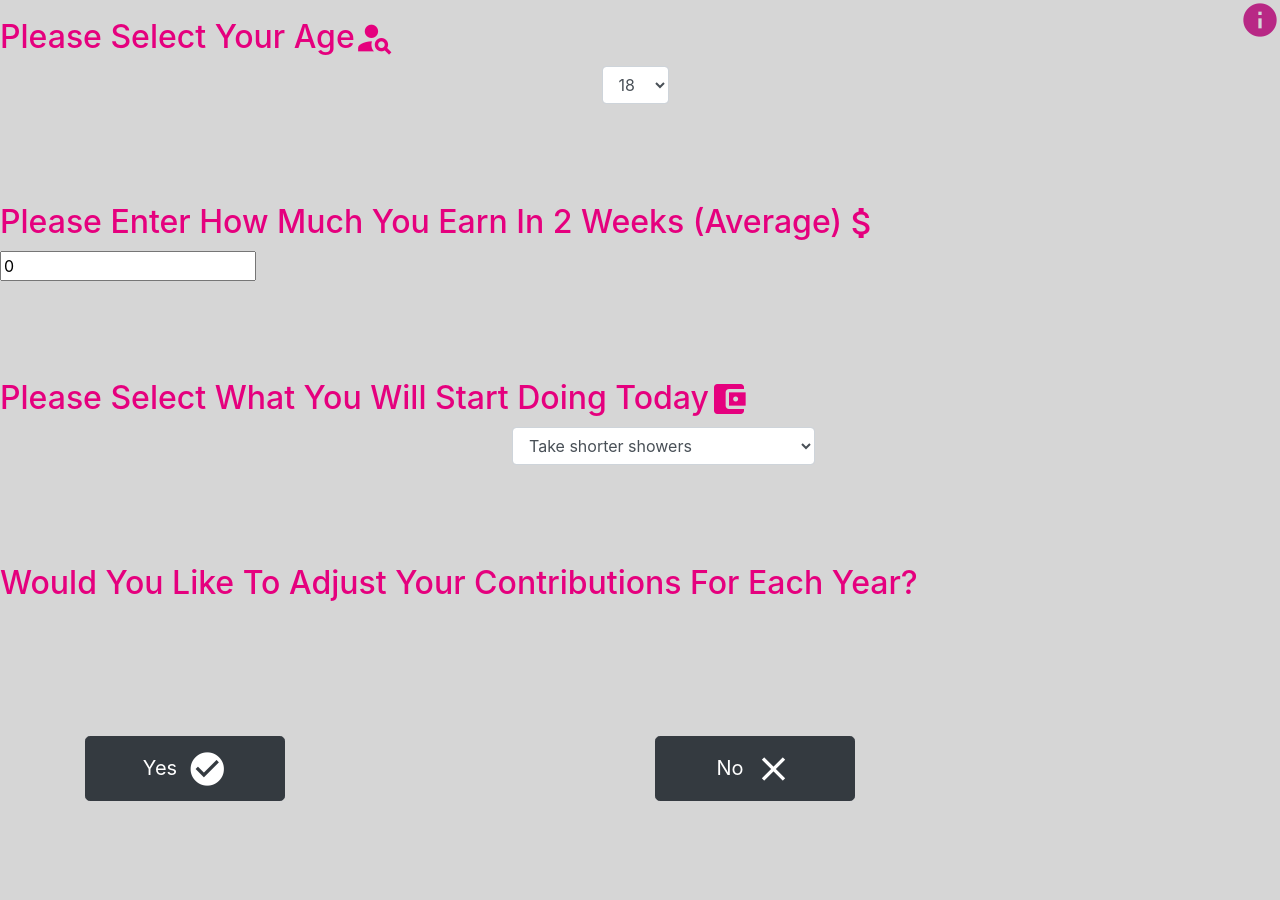
Test: StartScreen Test Suite › Info modal works
Click the 1st icon "info". click: coordinates (1260, 20)
box: [1240,0,1279,40]
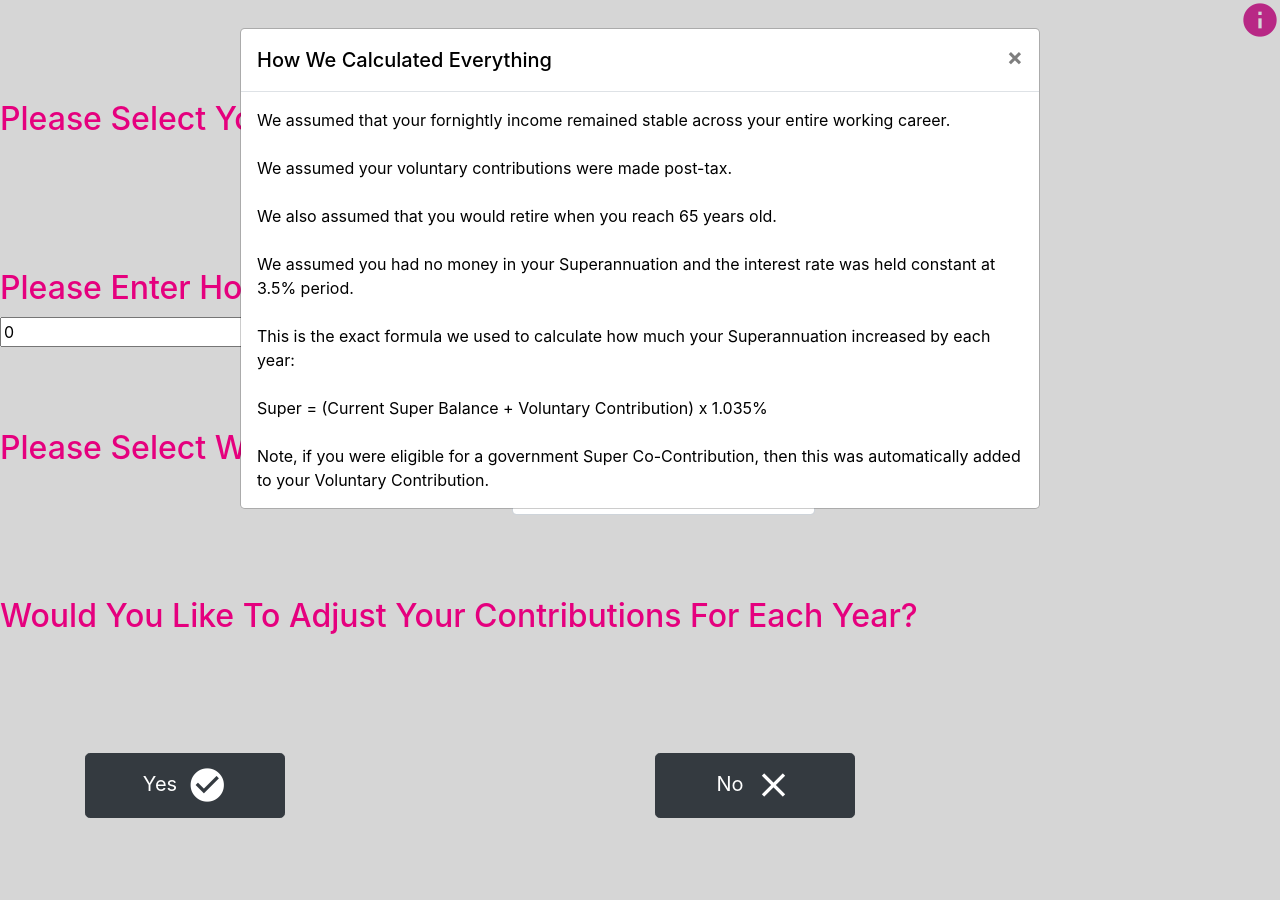
Check: the dialog is shown, box [240,28,1040,509]
Click the button named "Close". click: coordinates (1015, 57)
box: [991,29,1039,85]
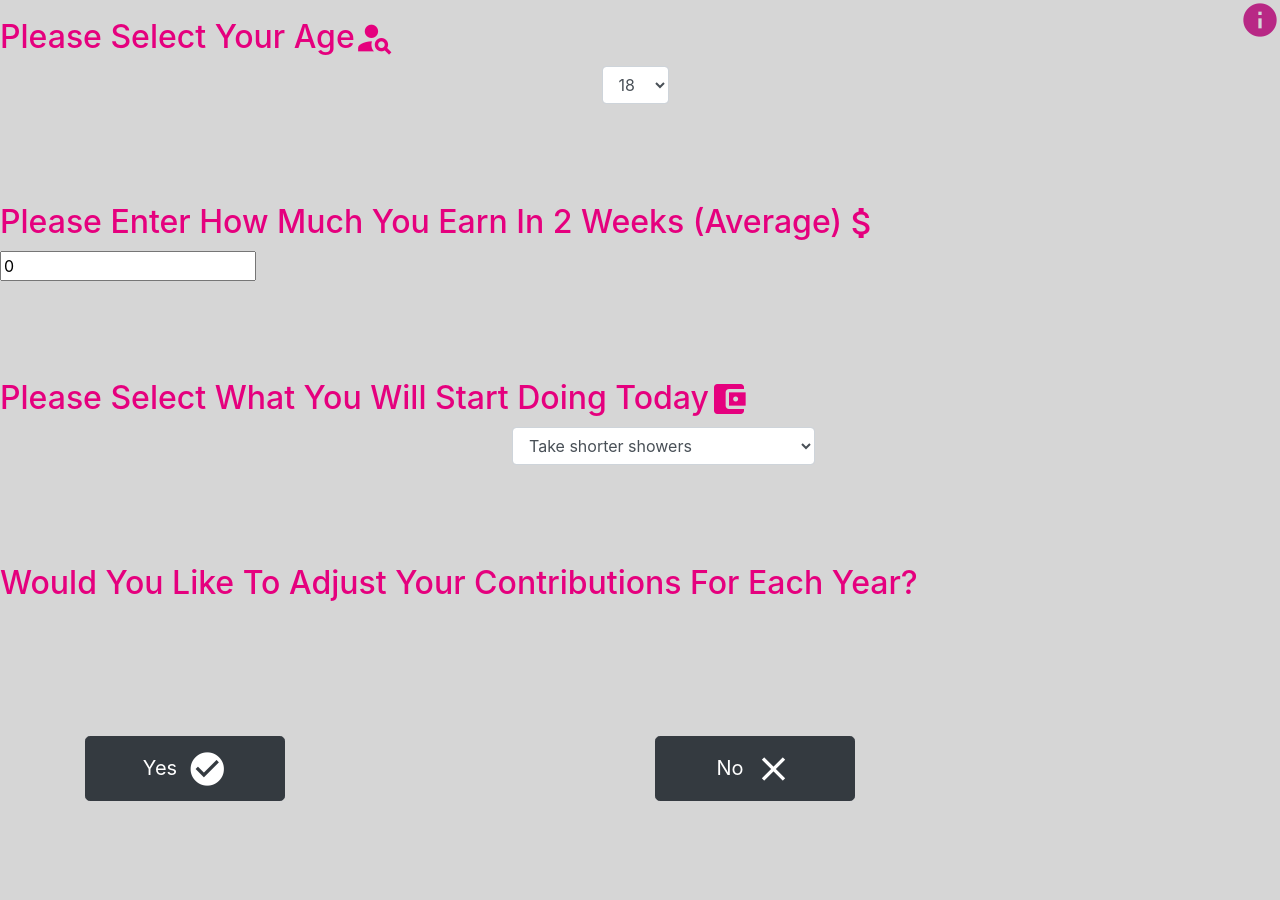
Check: the dialog is gone
